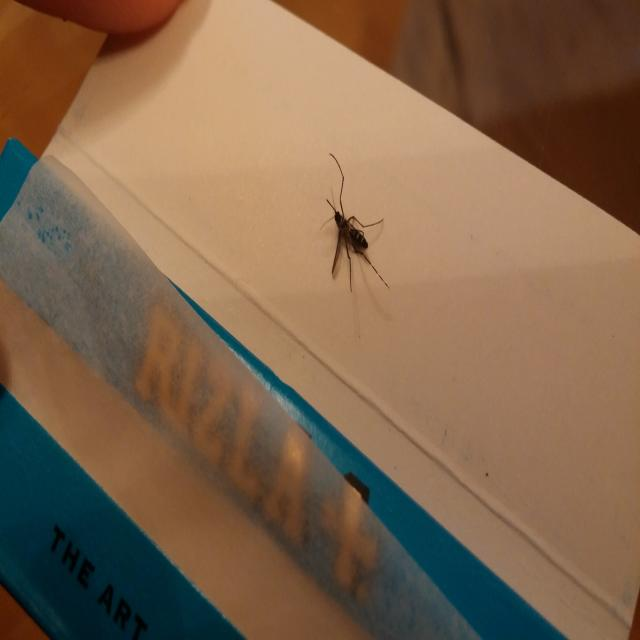albopictus: (319, 145, 391, 308)
